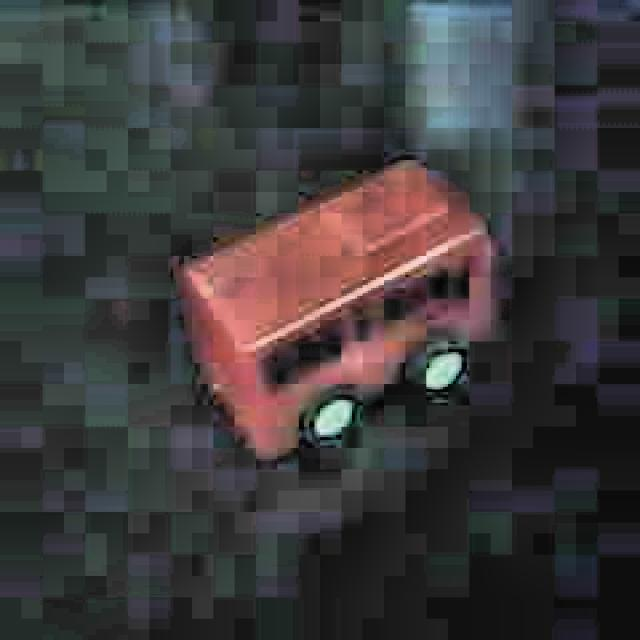bus: (168, 148, 507, 476)
